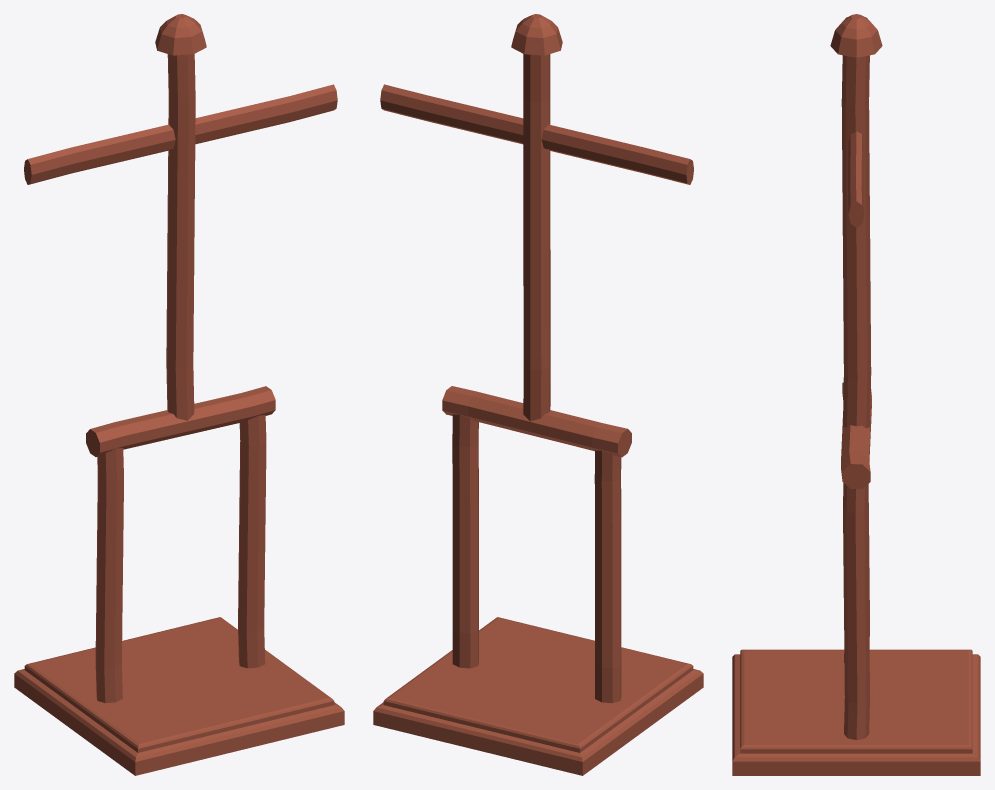
The model's file is armor stand.fbx.
3 views of the same model, side by side, from view 1: azimuth 30°, elevation 25°; view 2: azimuth 150°, elevation 25°; view 3: azimuth 270°, elevation 25° (orthographic). The views are drawn at different scales.
Parts seen in each view (by area): view 1: armor stand; view 2: armor stand; view 3: armor stand.
Part boxes in pixels (box(x1,y1,x2,y2)): armor stand: box(14, 14, 344, 775); armor stand: box(373, 14, 703, 775); armor stand: box(732, 14, 980, 775).
Bounding box in the file's own units: 86 × 185 × 58.83.
